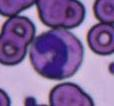N: (30, 30, 84, 80)
